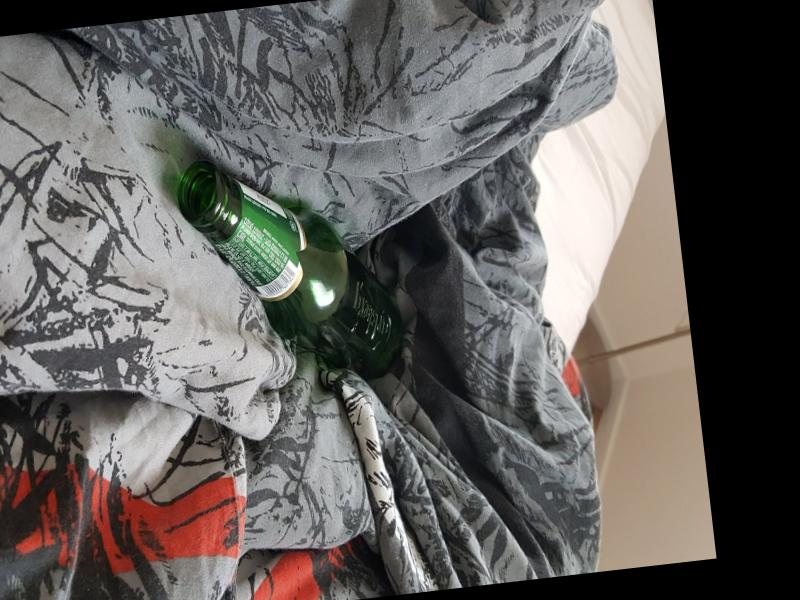Beer: (173, 143, 407, 400)
